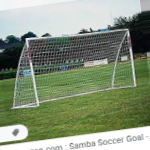goals: (10, 27, 137, 109)
